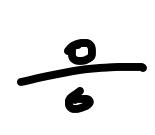div: (16, 39, 145, 113)
